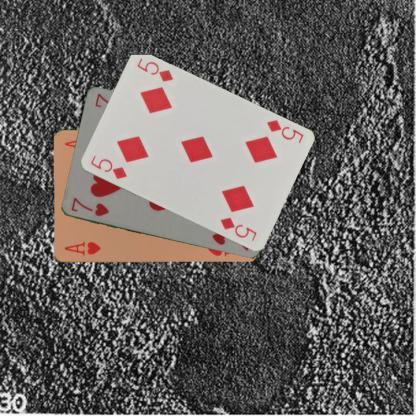5d: (264, 116, 304, 146), (88, 152, 128, 181)
7h: (69, 195, 110, 218)
Ah: (61, 239, 102, 257)
